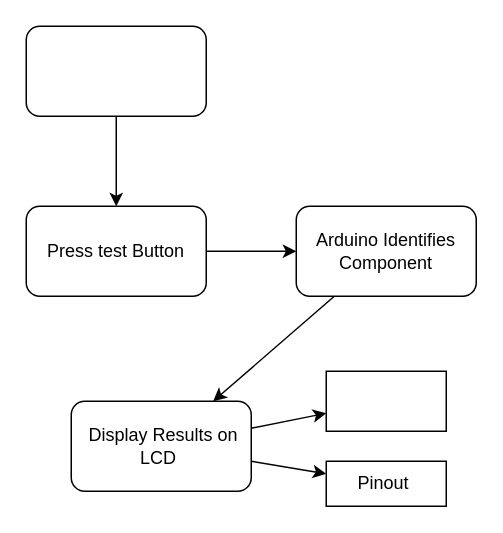
The diagram is 503 pixels wide and 533 high, and some of its shapes have lost their labels. Each missing label, with the centre of its shape:
Component Type: pixel 385 400
Insert Component: pixel 115 70
